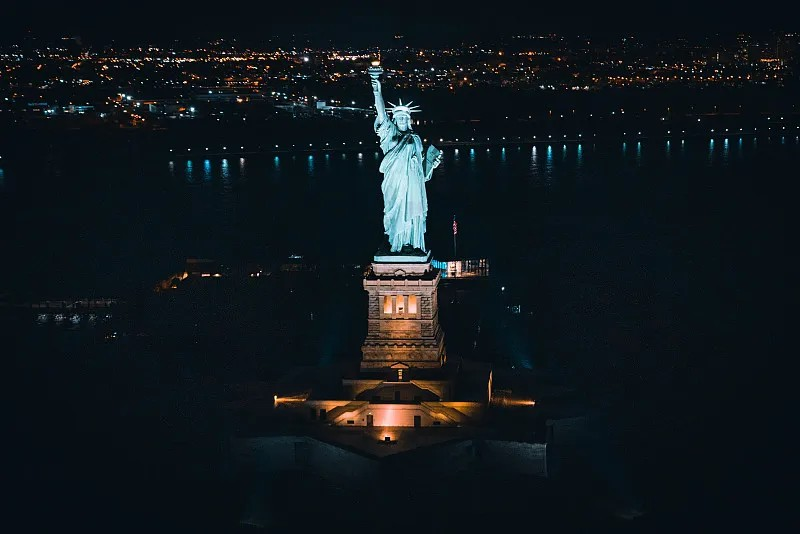SL: (360, 59, 448, 368)
